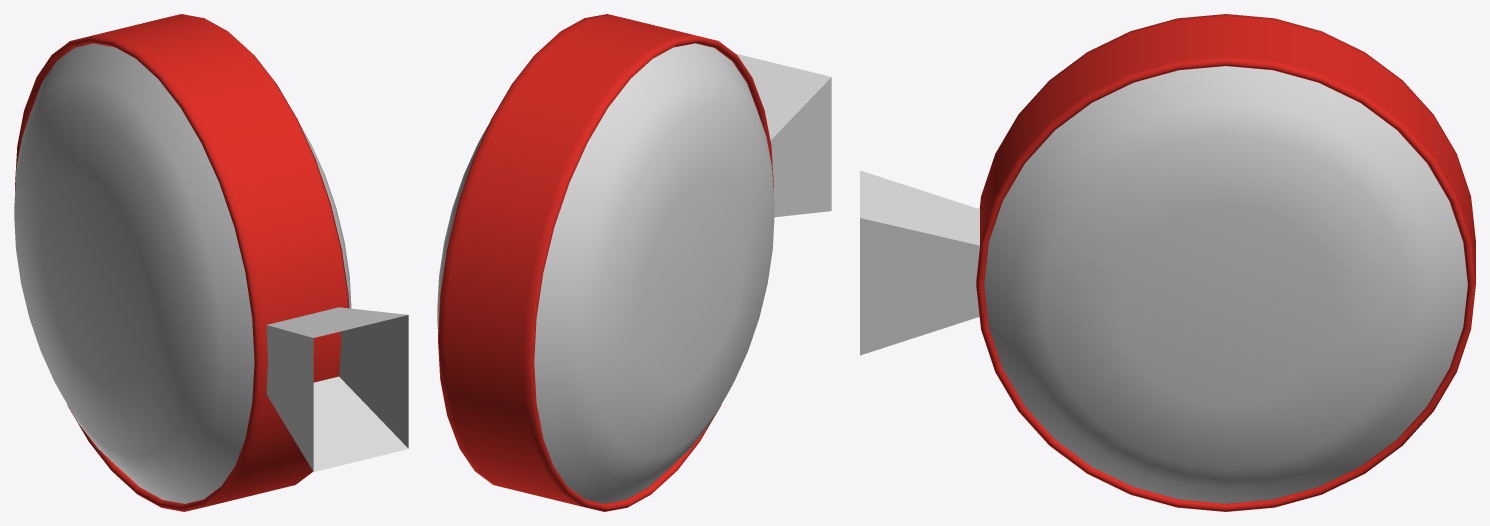
The model's file is clock.fbx.
The picture shows the model from 3 angles, left to right: view 1: azimuth 30°, elevation 25°; view 2: azimuth 150°, elevation 25°; view 3: azimuth 270°, elevation 25°; orthographic projection. The views are drawn at different scales.
Visible parts, largest first — view 1: clock_glass, clock, wall_mount; view 2: clock_glass, clock, wall_mount; view 3: clock_glass, clock, wall_mount.
Boxes of the visible parts, x1,y1,x2,y2 form: clock_glass: (14,43,351,503); clock: (15,14,349,511); wall_mount: (266,307,408,471); clock_glass: (437,43,774,503); clock: (438,14,773,511); wall_mount: (736,54,831,217); clock_glass: (984,66,1467,503); clock: (976,14,1475,511); wall_mount: (860,170,979,355).
Bounding box in the file's own units: 42.44 × 103 × 127.
